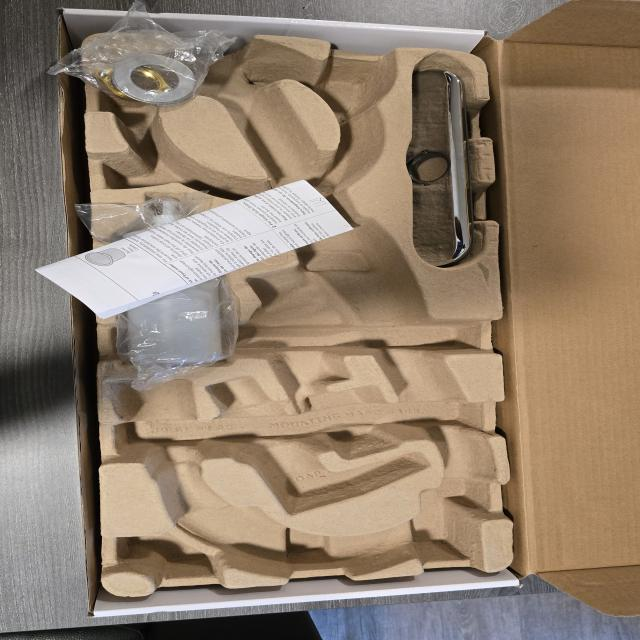1m: (113, 39, 490, 575)
2m: (204, 374, 431, 510)
3o: (118, 199, 232, 363)
4: (406, 71, 474, 265)
5m: (319, 67, 387, 114)
6: (47, 2, 237, 107)
7m: (108, 131, 226, 194)
8: (33, 177, 356, 318)
